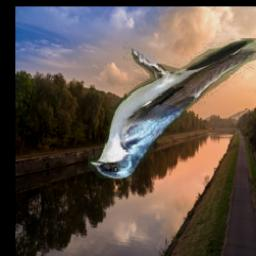Swallow: (88, 38, 256, 178)
